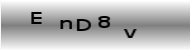8: (97, 15, 111, 29)
D: (76, 18, 91, 32)
E: (30, 11, 42, 24)
n: (58, 18, 72, 30)
v: (123, 27, 137, 39)
